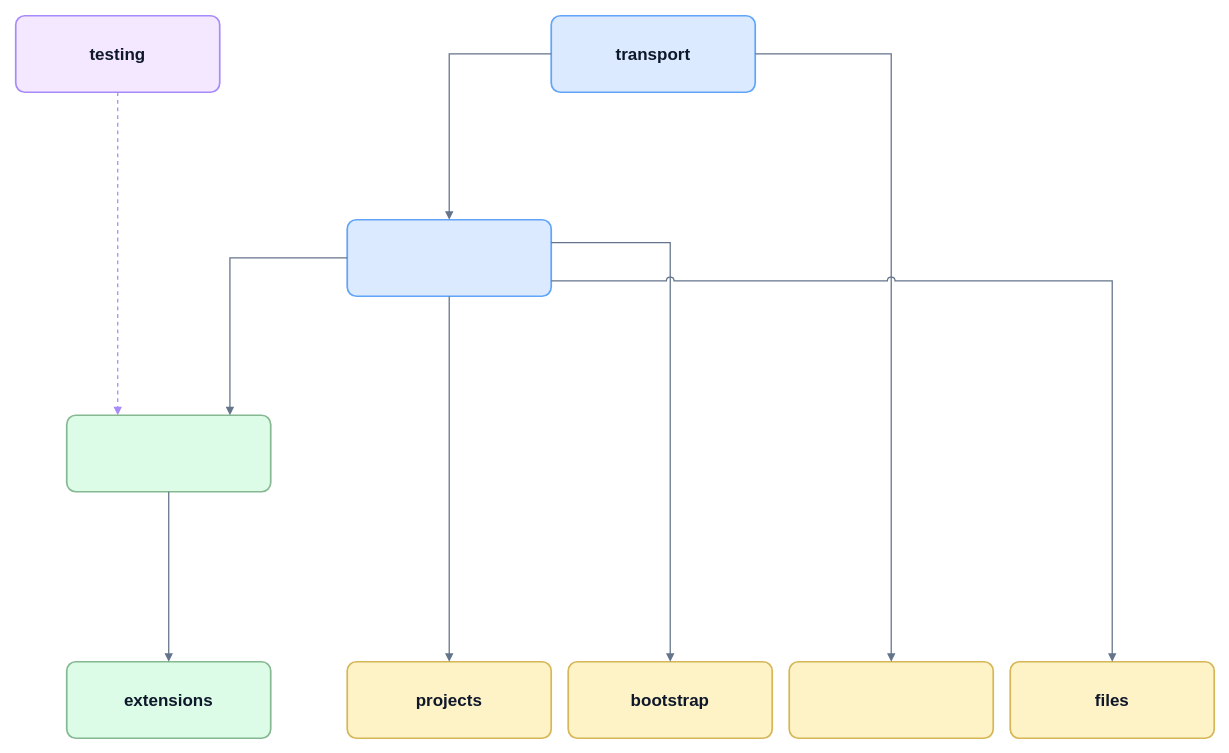
Some shapes in this 1229 by 753 pixel diagram are drawn without their labels. Each missing label, with the centre of its shape:
"application" goes at pixel 449 257.
"logging" goes at pixel 891 699.
"runtime" goes at pixel 168 453.
